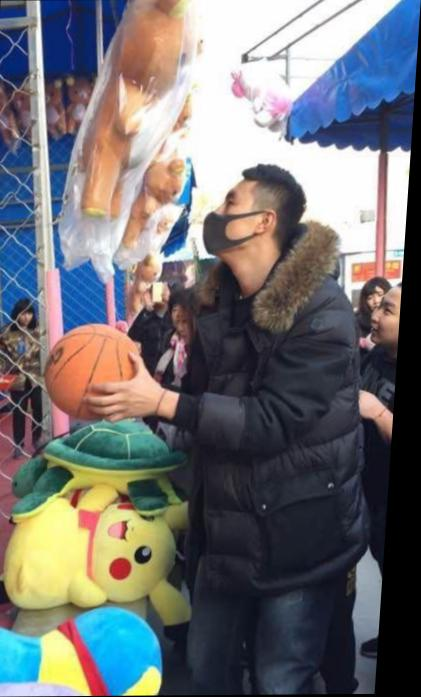NONE: (374, 301, 405, 346), (182, 314, 212, 346), (371, 292, 392, 315), (26, 312, 41, 326)
WRONG: (206, 182, 253, 256)
